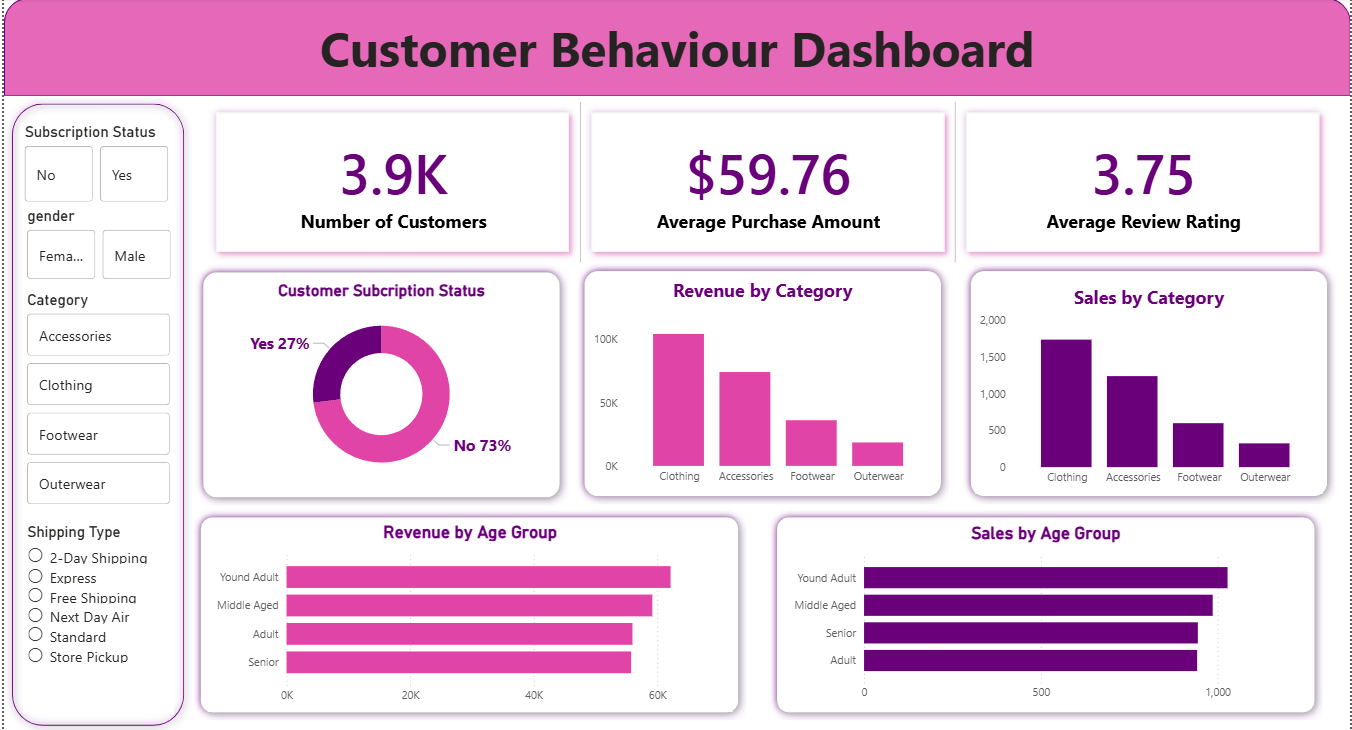

The dashboard page shown, as its layout file describes it:
{"tool":"powerbi","page":{"name":"Page 1","canvas":[1500,820],"ordinal":0},"visuals":[{"type":"cardVisual","fields":{"Data":["customer_analysis customer_details.Number of Customers","customer_analysis customer_details.Average Purchase Amount","customer_analysis customer_details.Average Review Rating"]},"box":[207.5,98.9,1289.6,213.1],"z":0},{"type":"shape","box":[0,0,1500.3,109.1],"z":1000},{"type":"textbox","box":[0,14.2,1500.3,94.9],"z":2000},{"type":"shape","box":[213.6,296.9,415,268.8],"z":3000},{"type":"donutChart","title":" Customer Subcription Status","fields":{"Category":["customer_analysis customer_details.subscription_status"],"Y":["CountNonNull(customer_analysis customer_details.customer_id)"]},"box":[227,314.7,387.2,231.2],"z":4000},{"type":"shape","box":[637.8,295.2,415,268.8],"z":5000},{"type":"shape","box":[1068.7,295.5,415,268.8],"z":6000},{"type":"clusteredColumnChart","title":"Revenue by Category","fields":{"Category":["customer_analysis customer_details.category"],"Y":["Sum(customer_analysis customer_details.purchase_amount)"]},"box":[651.8,312,387.2,239.5],"z":7000},{"type":"clusteredColumnChart","title":"Sales by Category","fields":{"Category":["customer_analysis customer_details.category"],"Y":["CountNonNull(customer_analysis customer_details.customer_id)"]},"box":[1082.1,318.9,387.2,234],"z":8000},{"type":"shape","box":[0,109.1,209.7,711.2],"z":9000},{"type":"advancedSlicerVisual","fields":{"Values":["customer_analysis customer_details.subscription_status"]},"box":[18.1,139.3,171.3,93.3],"z":10002},{"type":"advancedSlicerVisual","fields":{"Values":["customer_analysis customer_details.gender"]},"box":[20.9,232.6,171.3,86.3],"z":10003},{"type":"advancedSlicerVisual","title":"Category","fields":{"Values":["customer_analysis customer_details.category"]},"box":[20.9,325.9,169.9,243.7],"z":10004},{"type":"listSlicer","title":"Shipping Type","fields":{"Values":["customer_analysis customer_details.shipping_type"]},"box":[20.9,584.9,168.5,213.1],"z":10005},{"type":"shape","box":[852.3,569.6,617,235.4],"z":10009},{"type":"shape","box":[210.3,569.6,617,235.4],"z":10010},{"type":"clusteredBarChart","title":"Sales by Age Group","fields":{"Category":["customer_analysis customer_details.age_group"],"Y":["CountNonNull(customer_analysis customer_details.customer_id)"]},"box":[870.4,584.9,580.7,207.5],"z":10011},{"type":"clusteredBarChart","title":"Revenue by Age Group","fields":{"Category":["customer_analysis customer_details.age_group"],"Y":["Sum(customer_analysis customer_details.purchase_amount)"]},"box":[227,583.5,584.9,211.7],"z":10012}]}

Visuals, with their boxes in screenshot pixels (x1, y1, x2, y2), scaled from the page's 1500x820 canvas onto the 1352x730 screenshot:
cardVisual - customer_analysis customer_details.Number of Customers x customer_analysis customer_details.Average Purchase Amount: bbox=(187, 88, 1349, 278)
shape: bbox=(0, 0, 1351, 97)
textbox: bbox=(0, 13, 1351, 97)
shape: bbox=(193, 264, 567, 504)
" Customer Subcription Status" donutChart: bbox=(205, 280, 554, 486)
shape: bbox=(575, 263, 949, 502)
shape: bbox=(963, 263, 1337, 502)
"Revenue by Category" clusteredColumnChart: bbox=(587, 278, 936, 491)
"Sales by Category" clusteredColumnChart: bbox=(975, 284, 1324, 492)
shape: bbox=(0, 97, 189, 729)
advancedSlicerVisual - customer_analysis customer_details.subscription_status: bbox=(16, 124, 171, 207)
advancedSlicerVisual - customer_analysis customer_details.gender: bbox=(19, 207, 173, 284)
"Category" advancedSlicerVisual: bbox=(19, 290, 172, 507)
"Shipping Type" listSlicer: bbox=(19, 521, 171, 710)
shape: bbox=(768, 507, 1324, 717)
shape: bbox=(190, 507, 746, 717)
"Sales by Age Group" clusteredBarChart: bbox=(785, 521, 1308, 705)
"Revenue by Age Group" clusteredBarChart: bbox=(205, 519, 732, 708)
